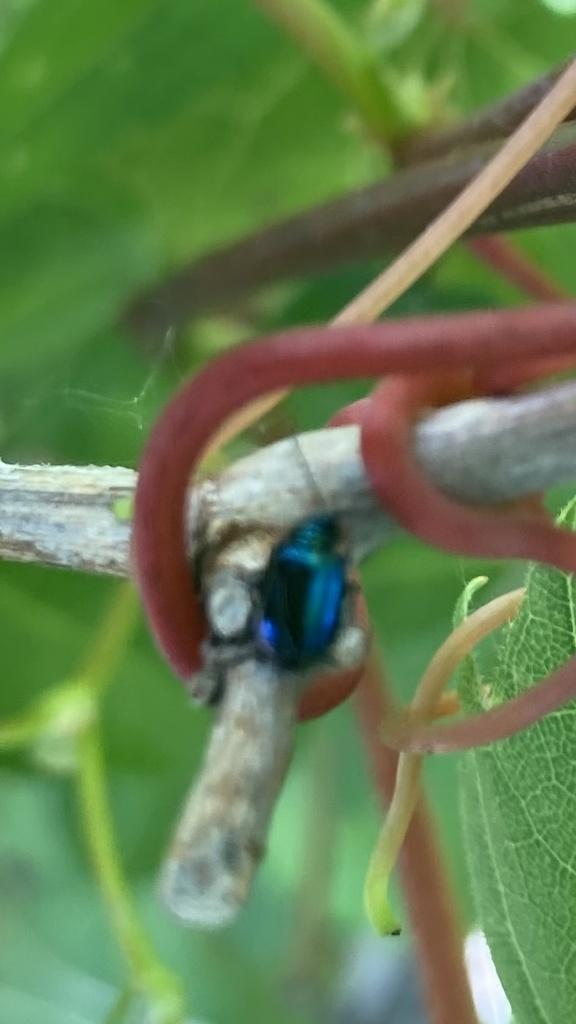flea_beetle: (228, 471, 388, 691)
